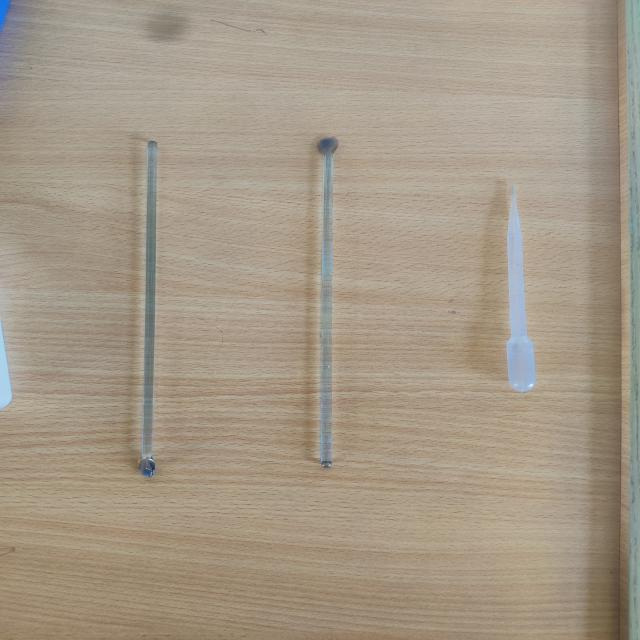Glass_Rod: (280, 101, 399, 504), (90, 120, 219, 488)
Pipette: (474, 171, 567, 408)
